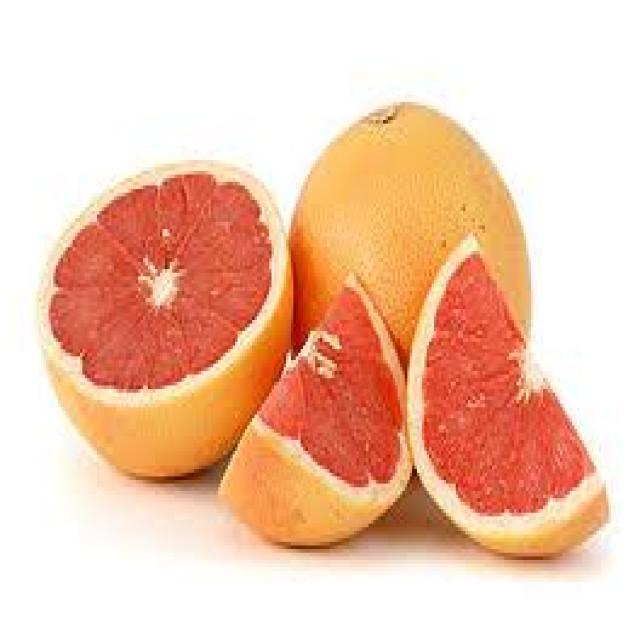greapefurit: (8, 80, 614, 542)
